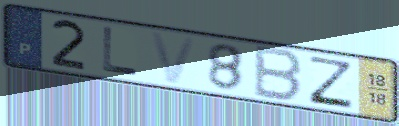2: (50, 19, 88, 73)
8: (205, 42, 247, 92)
B: (251, 43, 305, 105)
L: (101, 25, 141, 79)
V: (147, 29, 200, 86)
Z: (307, 54, 356, 111)
